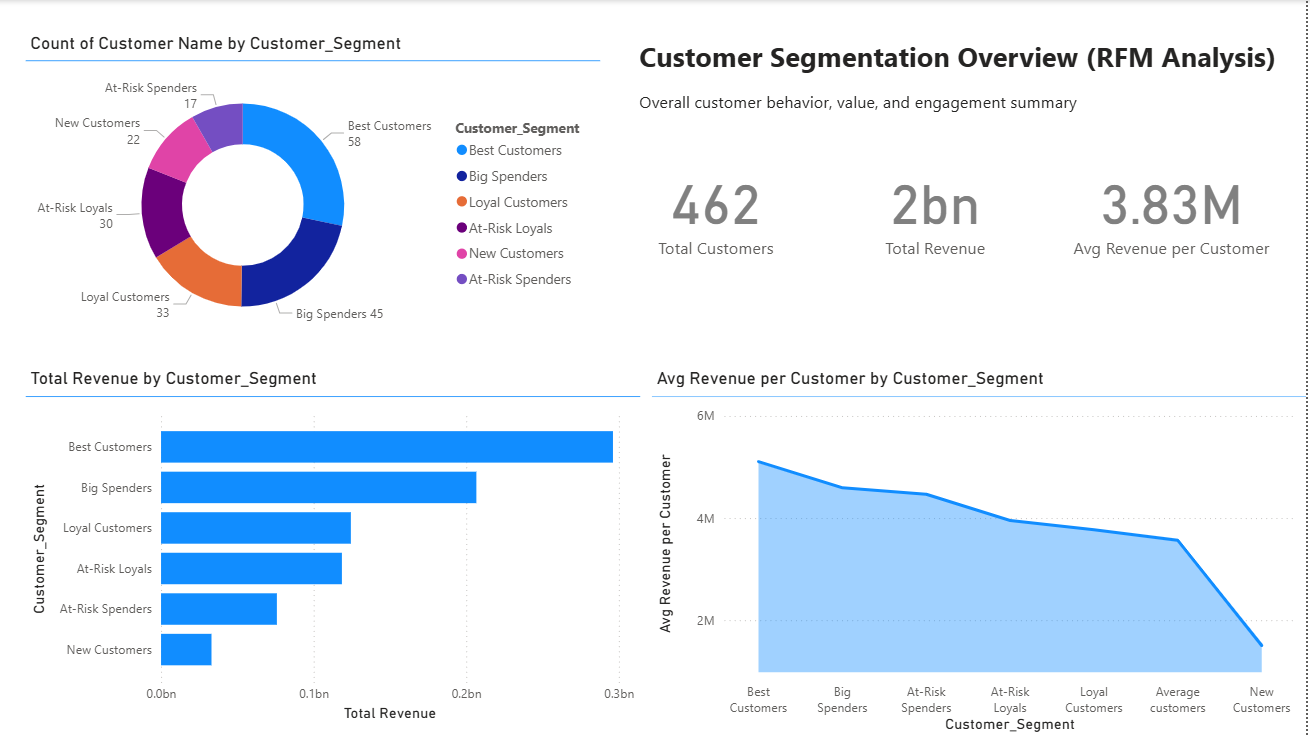

The page's visual inventory and layout, read from the dashboard file:
{"tool":"powerbi","page":{"name":"Page 1","canvas":[1280,720],"ordinal":0},"visuals":[{"type":"donutChart","fields":{"Category":["Final RFM dataset.Customer_Segment"],"Y":["CountNonNull(Final RFM dataset.Customer Name)"]},"box":[26.9,31.8,562.5,305.7],"z":0},{"type":"barChart","fields":{"Category":["Final RFM dataset.Customer_Segment"],"Y":["Final RFM dataset.Total Revenue"]},"box":[26.9,359.5,601.6,349.7],"z":1000},{"type":"card","fields":{"Values":["Final RFM dataset.Total Customers"]},"box":[628.5,145.5,148,117.4],"z":2000},{"type":"card","fields":{"Values":["Final RFM dataset.Total Revenue"]},"box":[838.9,145.5,156.5,117.4],"z":3000},{"type":"textbox","box":[622.4,31.8,657.9,51.4],"z":4000},{"type":"textbox","box":[622.4,83.2,657.9,51.4],"z":5000},{"type":"card","fields":{"Values":["Final RFM dataset.Avg Revenue per Customer"]},"box":[1040.6,145.5,215.2,117.4],"z":6000},{"type":"areaChart","fields":{"Category":["Final RFM dataset.Customer_Segment"],"Y":["Final RFM dataset.Avg Revenue per Customer"]},"box":[639.5,359.5,640.8,360.7],"z":7000}]}

Visuals, with their boxes in screenshot pixels (x1, y1, x2, y2), scaled from the page's 1280x720 canvas onto the 1310x736 screenshot:
donutChart - Final RFM dataset.Customer_Segment x CountNonNull(Final RFM dataset.Customer Name): 28 33 603 345
barChart - Final RFM dataset.Customer_Segment x Final RFM dataset.Total Revenue: 28 367 643 725
card - Final RFM dataset.Total Customers: 643 149 795 269
card - Final RFM dataset.Total Revenue: 859 149 1019 269
textbox: 637 33 1309 85
textbox: 637 85 1309 138
card - Final RFM dataset.Avg Revenue per Customer: 1065 149 1285 269
areaChart - Final RFM dataset.Customer_Segment x Final RFM dataset.Avg Revenue per Customer: 654 367 1309 735
